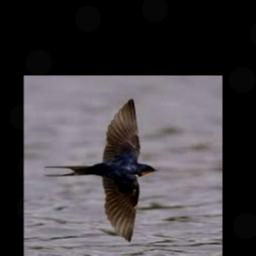Swallow: (42, 98, 157, 242)
